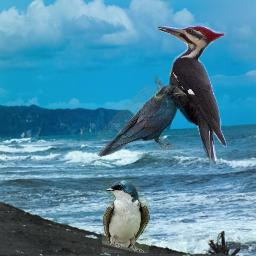Crow: (97, 85, 187, 158)
Swallow: (102, 179, 150, 253)
Woodpecker: (155, 26, 227, 165)
